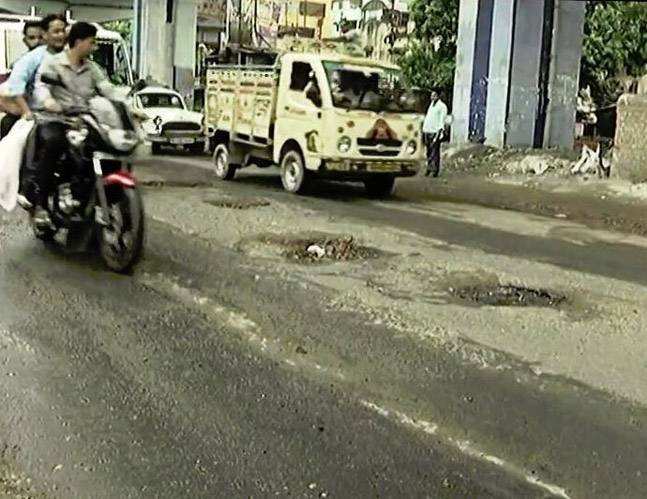pothole: (412, 248, 564, 329), (231, 234, 418, 287), (198, 180, 275, 216)
